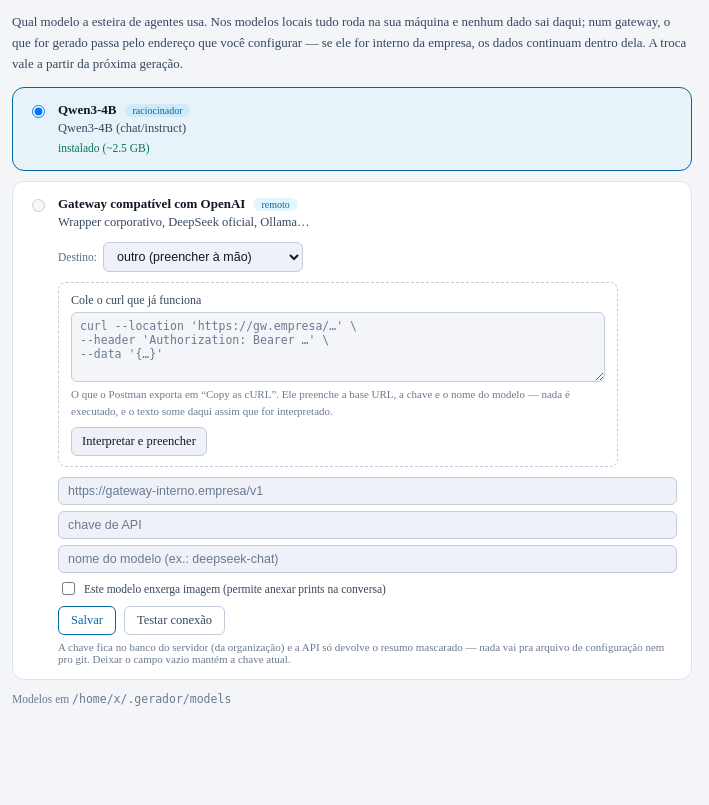
Test: ModeloIaTab — avisos do destino (SPEC-30) › destino local avisa do tempo em CPU — com número, não com 'pode demorar'
Expected: the element with test id "modelo-ia-compativel-openai" is shown, 12,181 -> 692,680
Type "http://localhost:11434/v1" into the field named "Base URL do gateway" at point(368, 491), box 58,477 -> 677,505
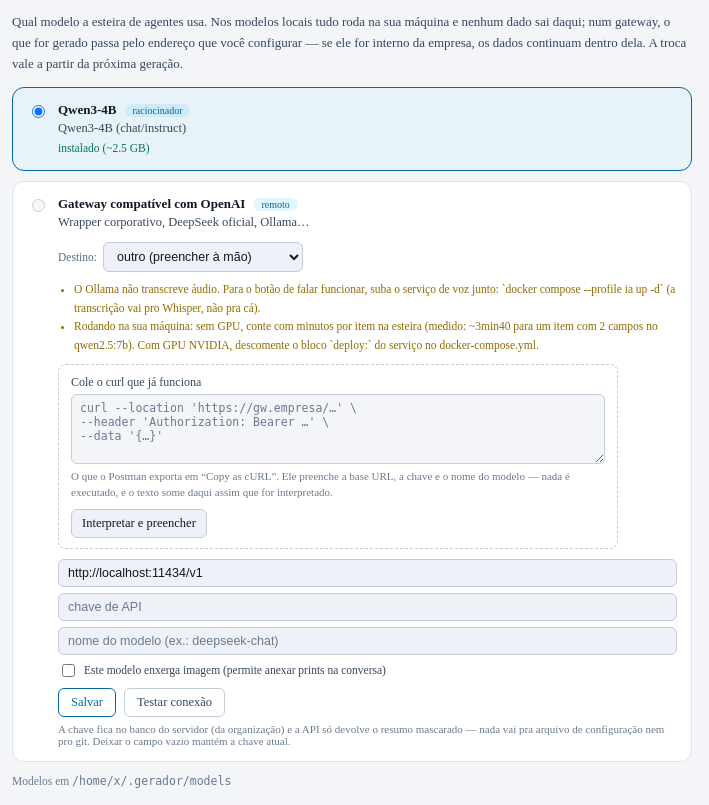
Expected: the list with test id "avisos-do-destino" shows "3min40", 74,320 -> 658,351
